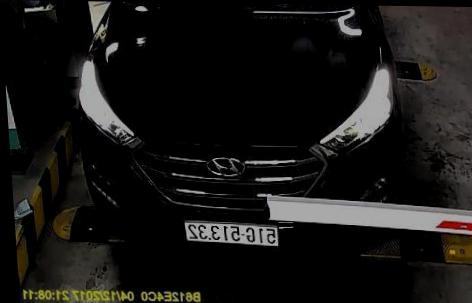License_Plate: (185, 222, 278, 246)
